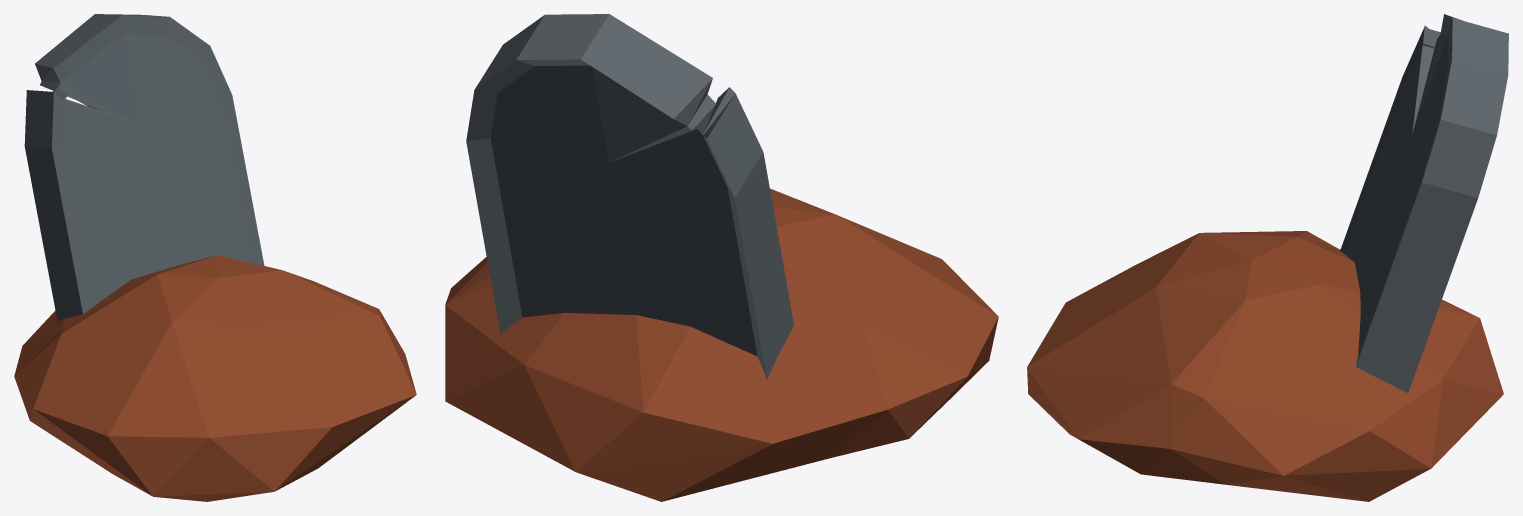
File: C_Lapide6.fbx
3 views of the same model, side by side, from view 1: azimuth 30°, elevation 25°; view 2: azimuth 150°, elevation 25°; view 3: azimuth 270°, elevation 25° (orthographic). The views are drawn at different scales.
Parts seen in each view (by area): view 1: Cylinder; view 2: Cylinder; view 3: Cylinder.
Boxes of the visible parts, x1=… form: Cylinder: x1=14, y1=14, x2=416, y2=501; Cylinder: x1=445, y1=14, x2=998, y2=501; Cylinder: x1=1027, y1=14, x2=1508, y2=501.
Size of the model in its own units: 436 by 409 by 427.
